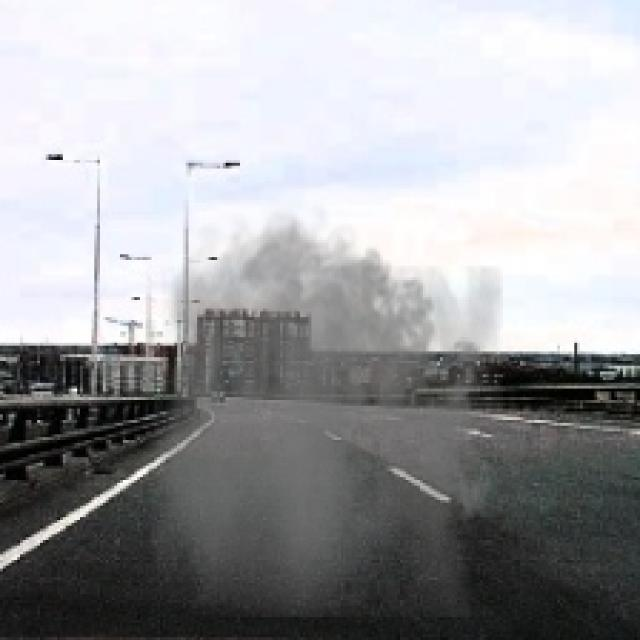smoke: (148, 197, 503, 617)
